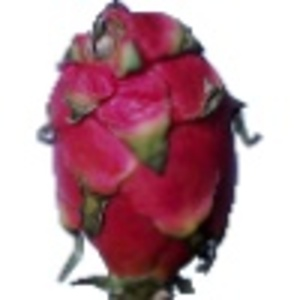pitaia: (36, 1, 264, 300)
